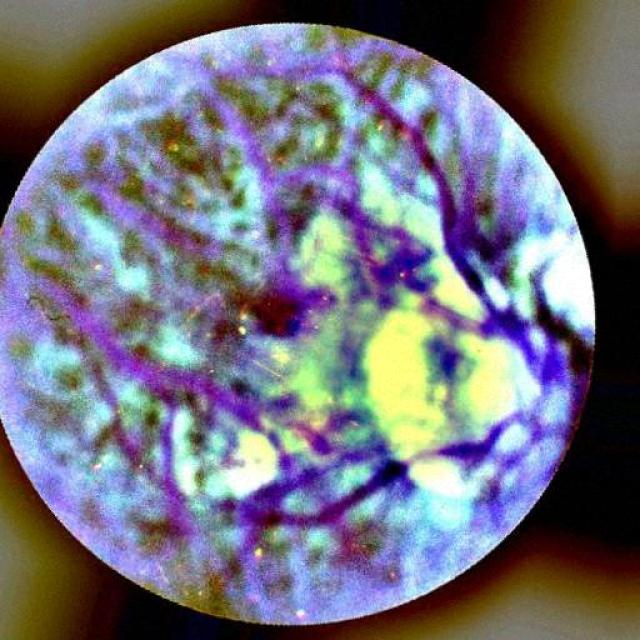Nerves: (339, 79, 549, 377), (209, 408, 525, 538)
